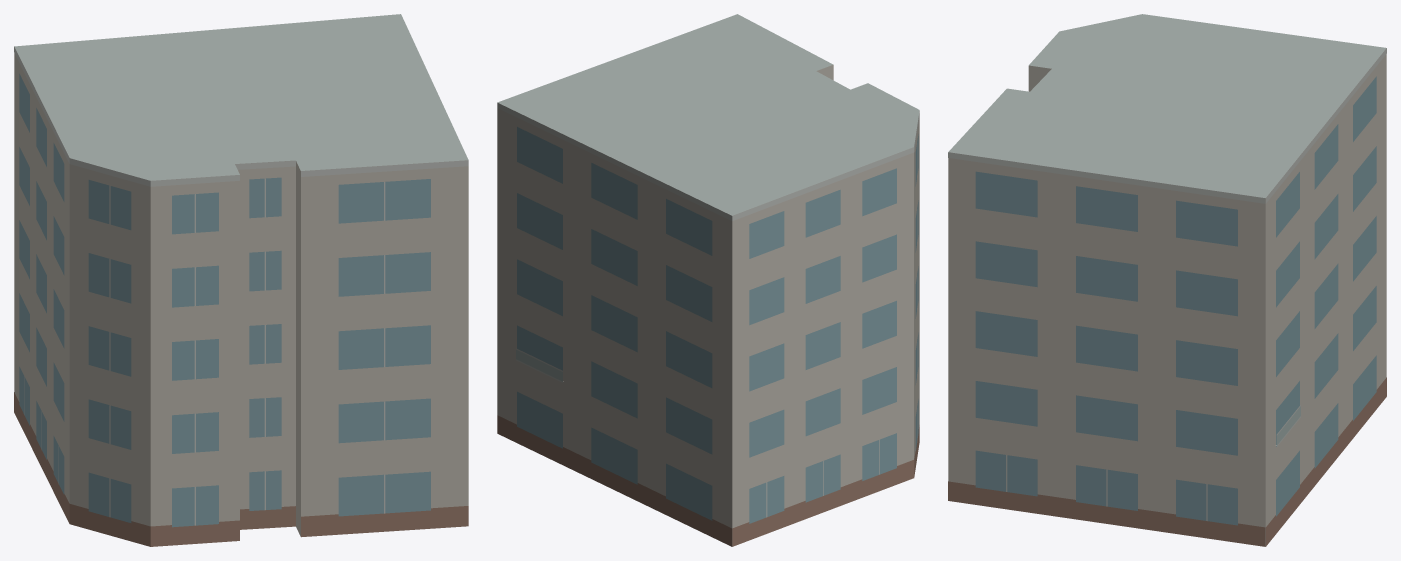
Rendered from survey-upis-32887702.glb.
3 views of the same model, side by side, from view 1: azimuth 30°, elevation 25°; view 2: azimuth 150°, elevation 25°; view 3: azimuth 270°, elevation 25° (orthographic). The views are drawn at different scales.
Parts seen in each view (by area): view 1: survey-upis-32887702.tmp; view 2: survey-upis-32887702.tmp; view 3: survey-upis-32887702.tmp.
Part boxes in pixels (x1,y1,x2,y2): survey-upis-32887702.tmp: [14, 14, 468, 546]; survey-upis-32887702.tmp: [497, 14, 919, 546]; survey-upis-32887702.tmp: [948, 14, 1386, 546].
Bounding box in the file's own units: 16.89 × 14.9 × 17.
